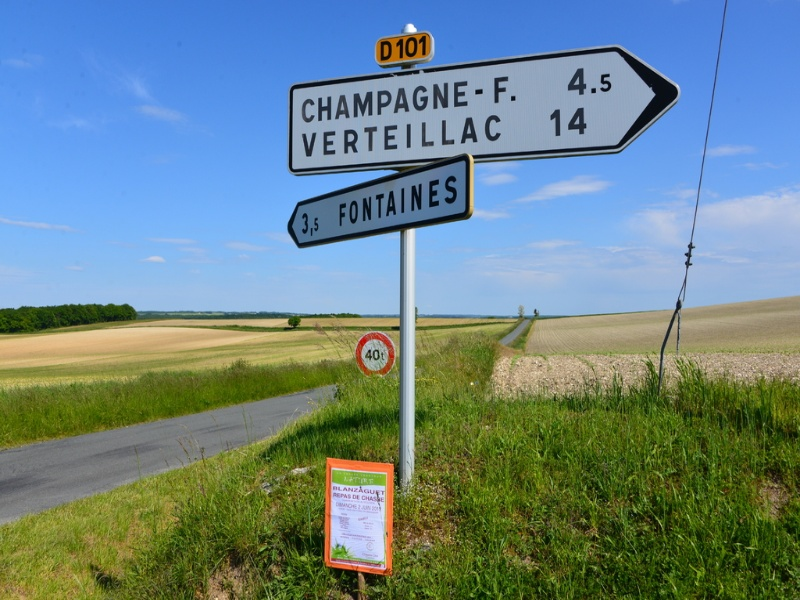speed_limit_40: (354, 330, 396, 377)
